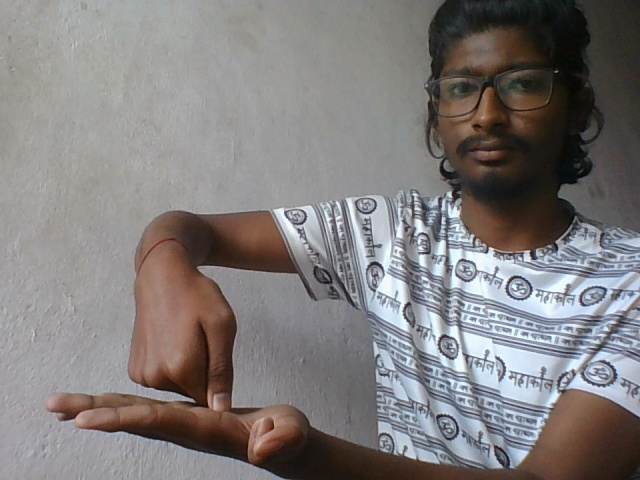What: (38, 247, 335, 478)
